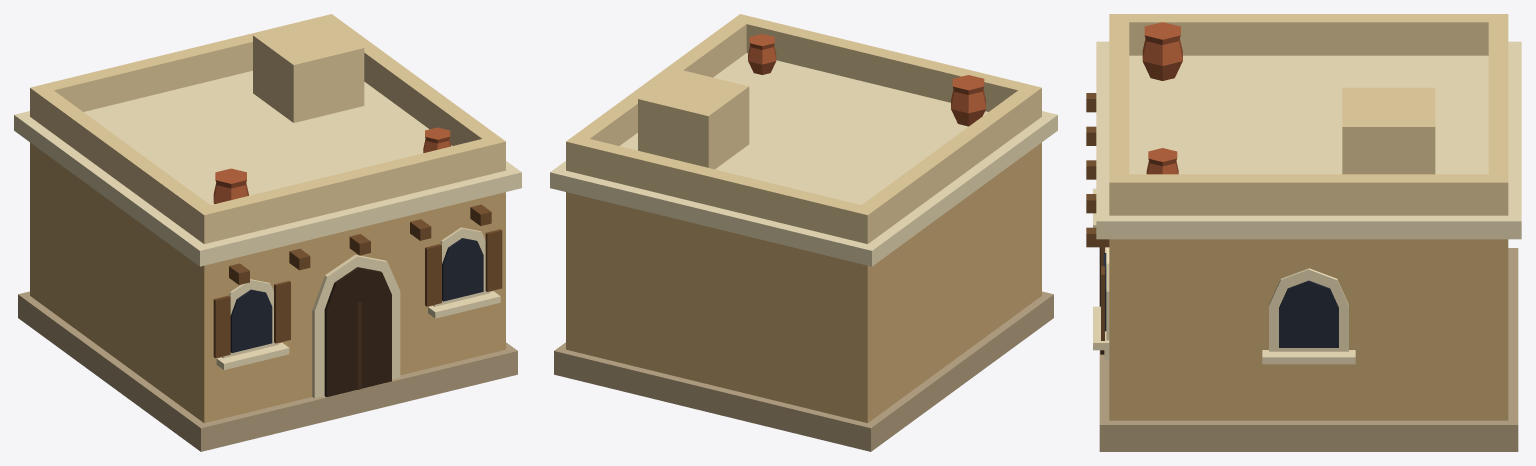
Rendered from house_01_small.fbx.
3 renders of one model, left to right at view 1: azimuth 30°, elevation 25°; view 2: azimuth 150°, elevation 25°; view 3: azimuth 270°, elevation 25°, orthographic. The views are drawn at different scales.
Parts seen in each view (by area): view 1: house_01_small; view 2: house_01_small; view 3: house_01_small.
Part boxes in pixels (bbox=[...]): house_01_small: bbox=[14, 14, 521, 451]; house_01_small: bbox=[550, 14, 1057, 451]; house_01_small: bbox=[1086, 14, 1521, 451].
Bounding box in the file's own units: 6.45 × 4.95 × 6.55.
Materials: 1 (1 with a texture image).
